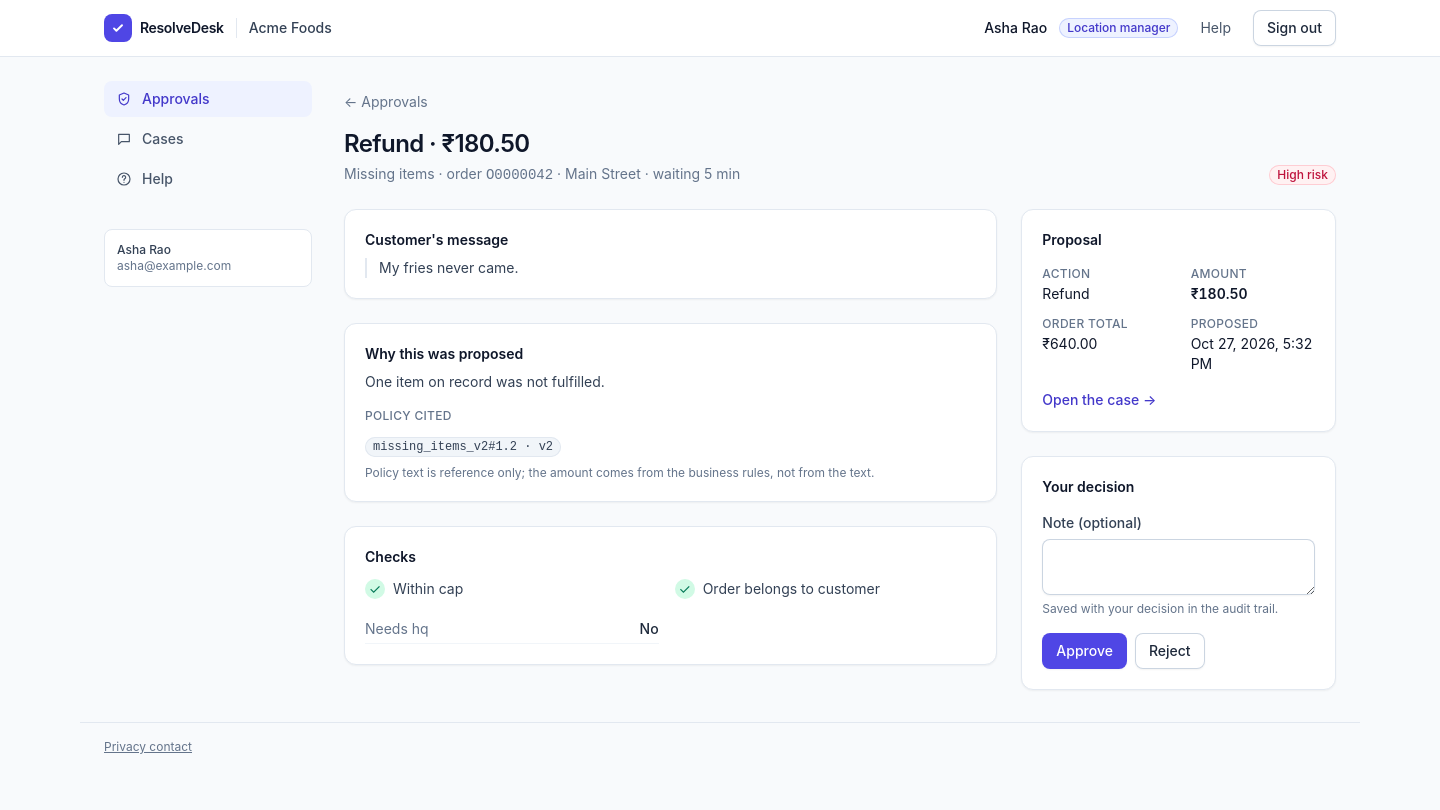
Test: approval detail › approves after confirmation and sends the note
This screenshot has width=1440, height=810.
Check: the text "My fries never came." is shown, box [365,258,976,278]
Type "checked with kitchen" into the text box labelled "Note (optional)" at [1179, 567], box [1042,539,1315,595]
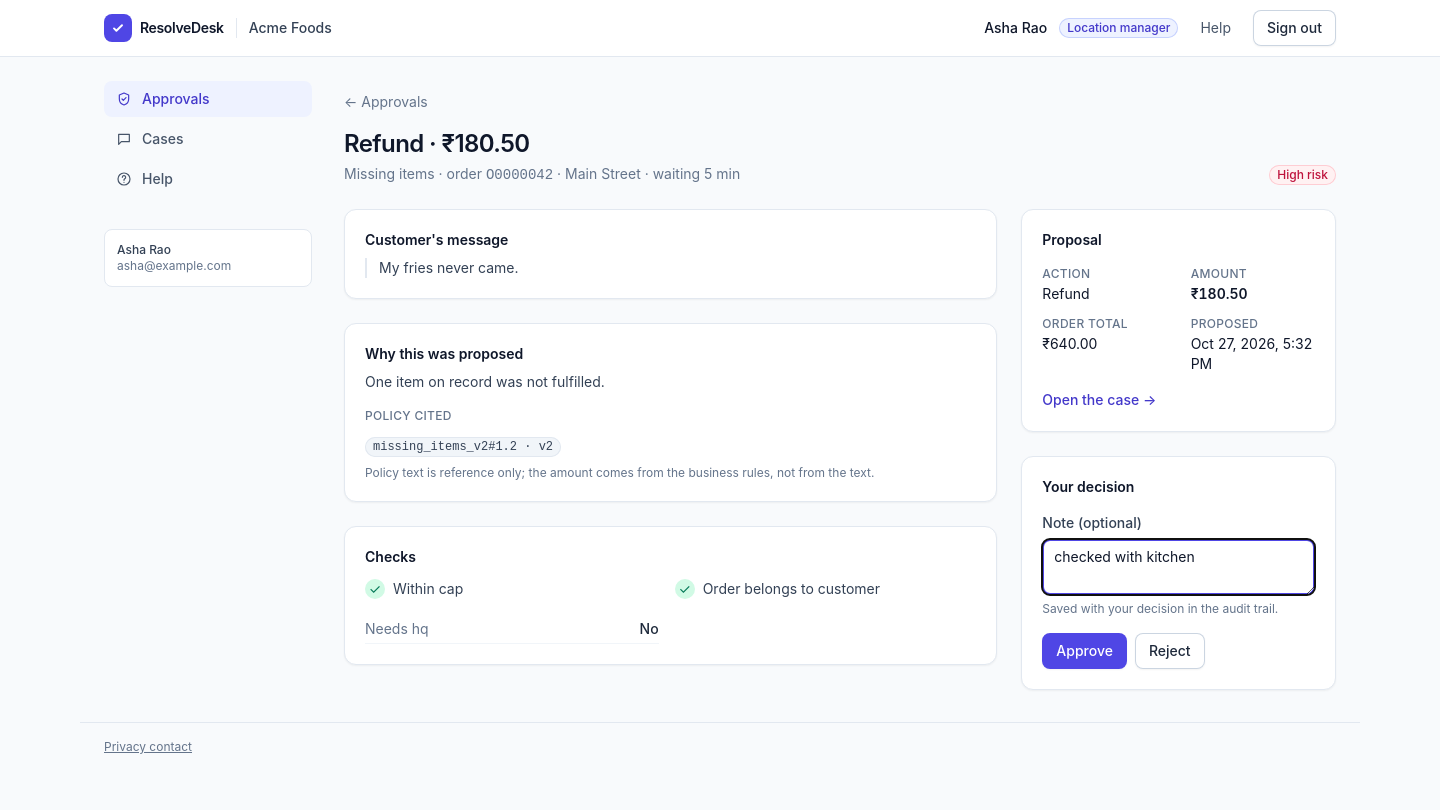
Click the button "Approve" at [1085, 651], box [1042,633,1127,669]
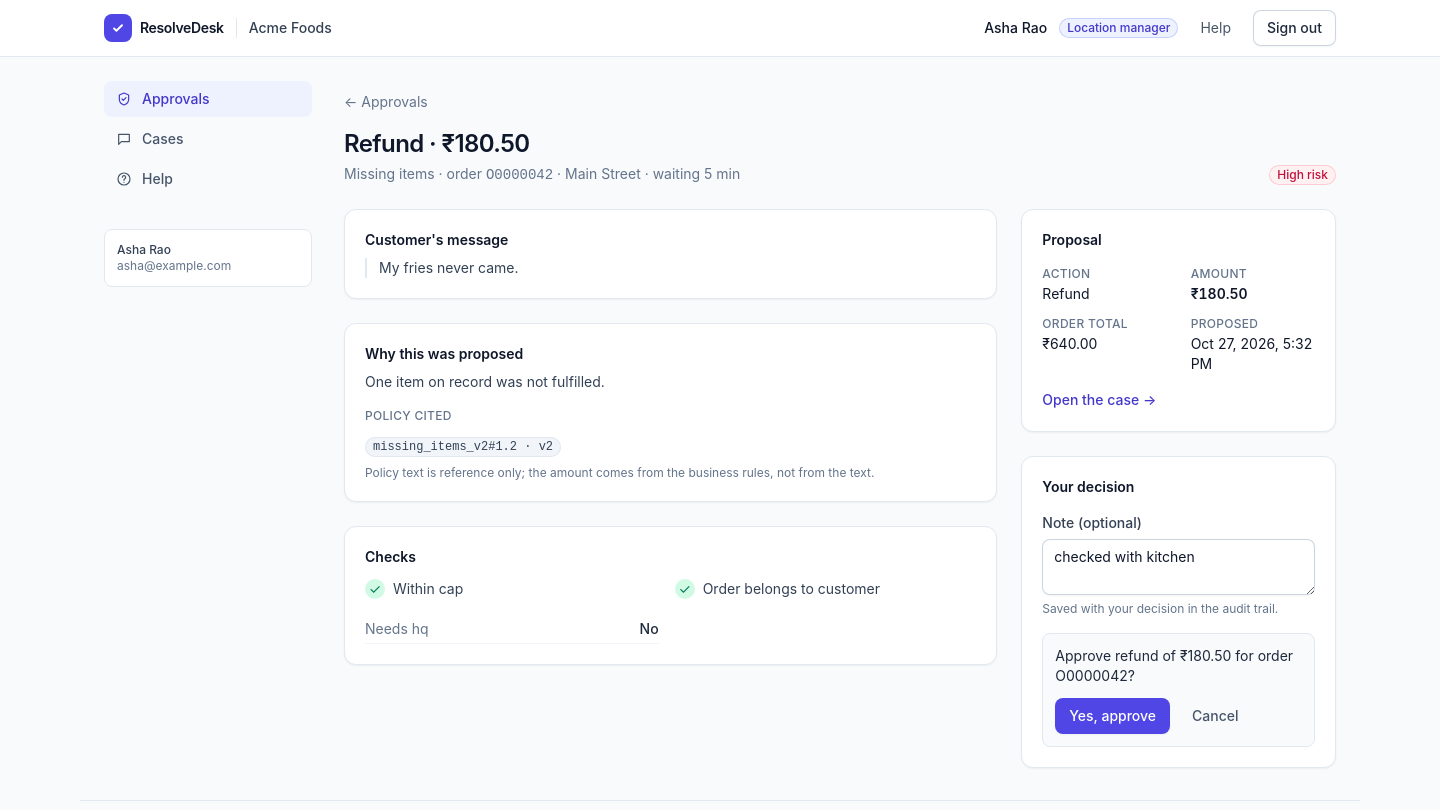
Check: the element named "Confirm decision" shows "₹180.50", box [1055,647,1293,684]
Click the button "Yes, approve" at [1113, 716], box [1055,698,1170,734]
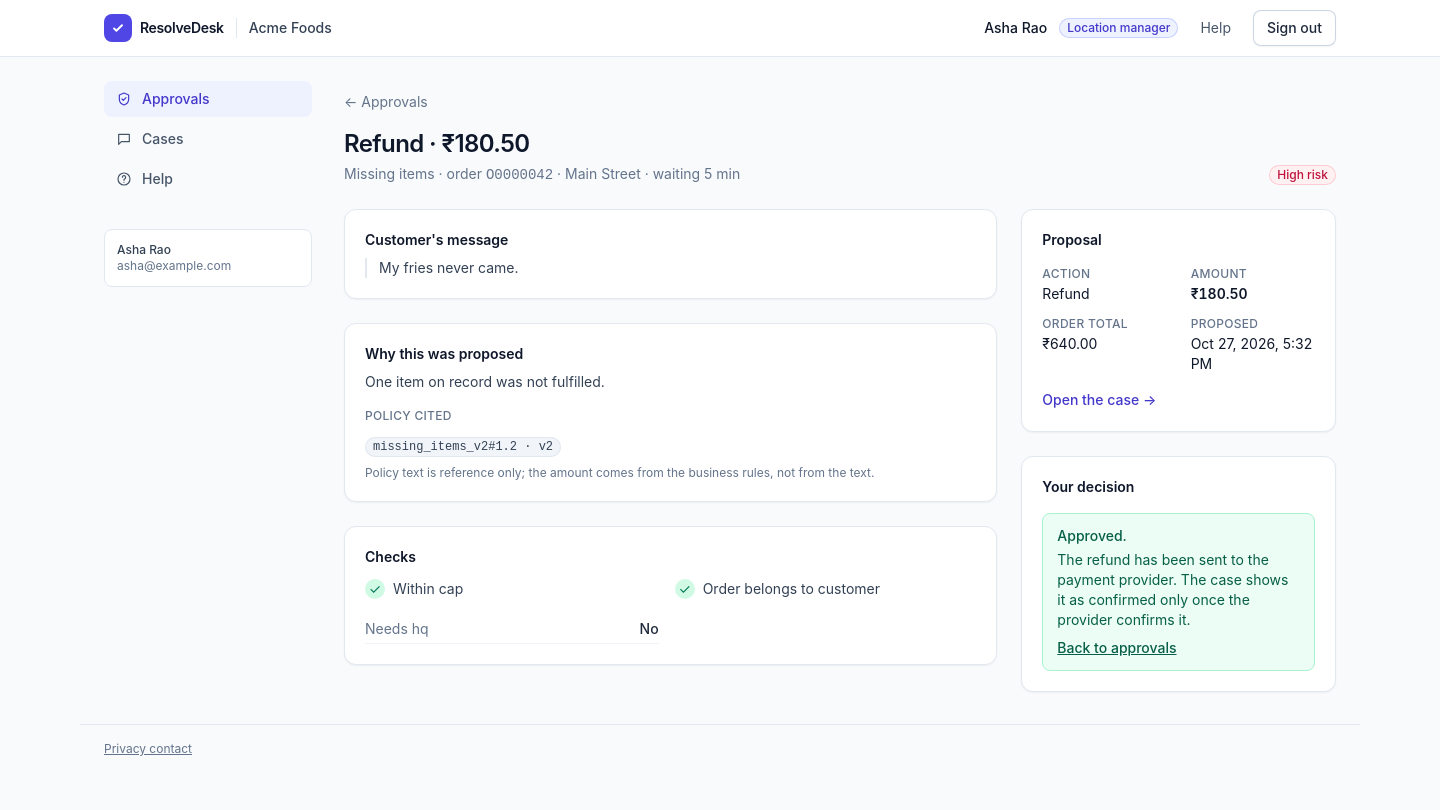
Check: the text "Approved." is shown, box [1057,527,1127,544]
Check: the text "only once the provider confirms" is shown, box [1057,551,1288,628]
